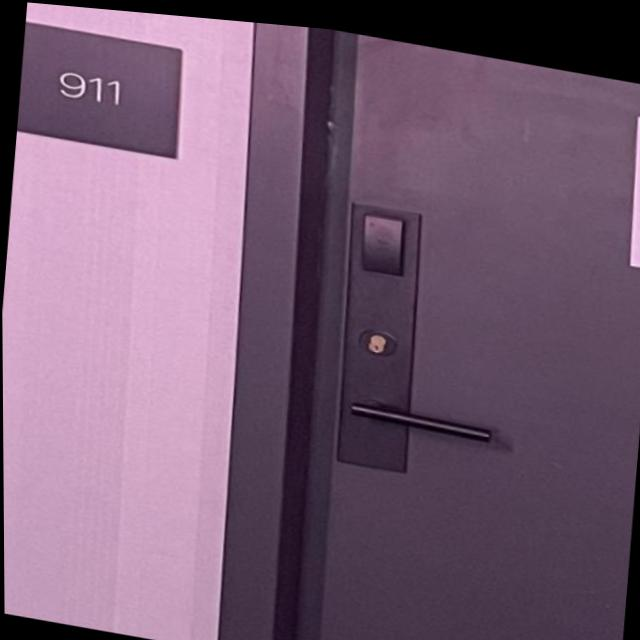door_handle: (327, 373, 513, 452)
